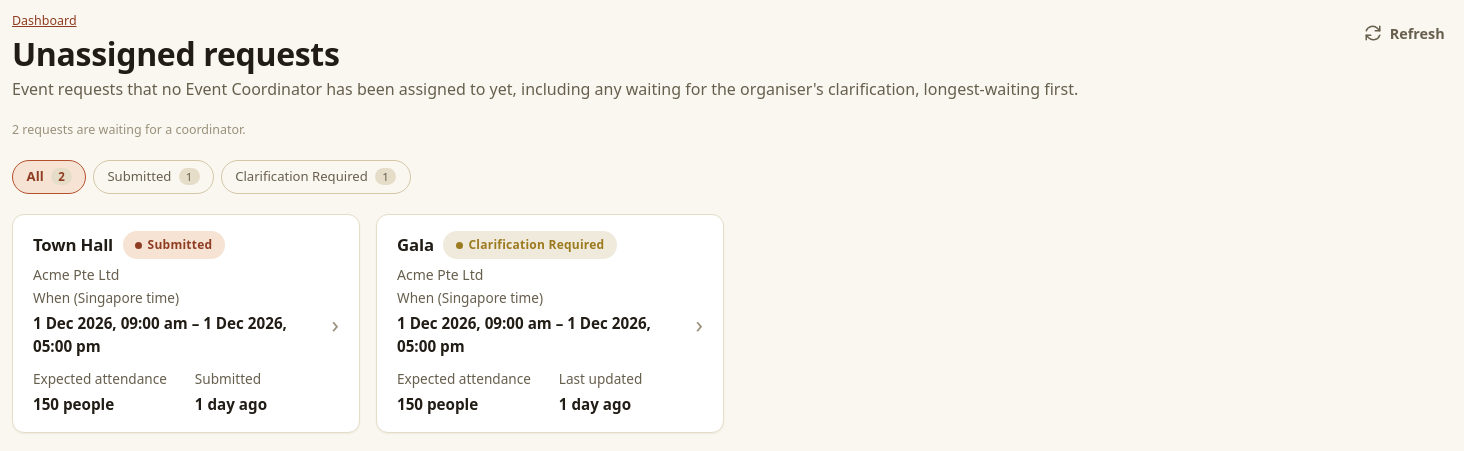
Test: UnassignedRequestsPage status filter (EC-NEW2) › filters unassigned requests by the shared status
Click the button "Submitted 1" at (153, 177), box [93, 160, 214, 194]
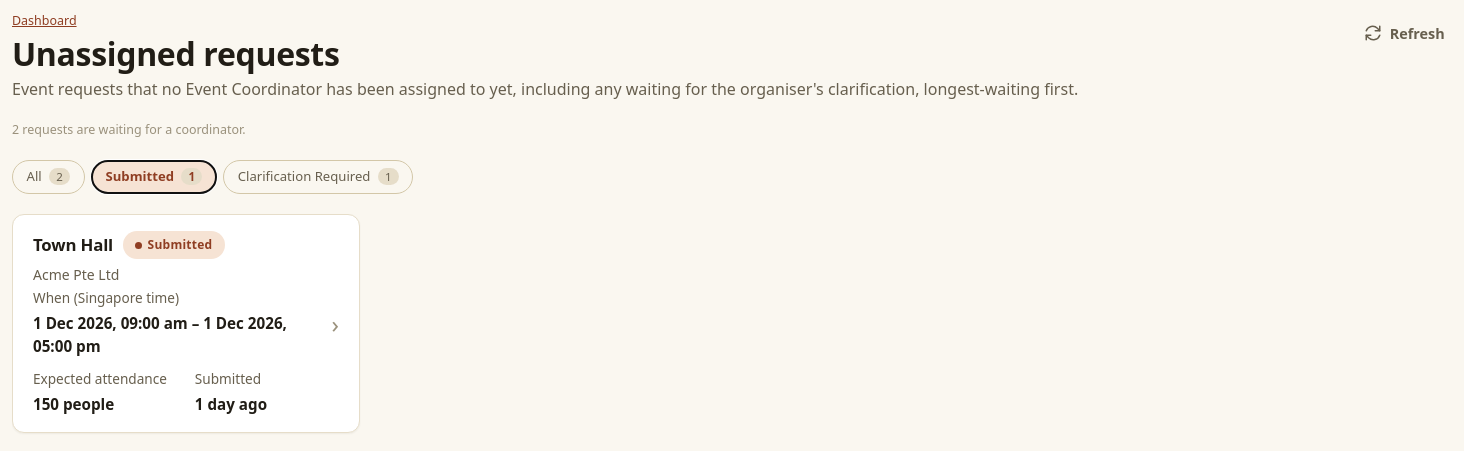
Check: the heading "Town Hall" is shown, box [33, 234, 113, 257]
Check: the link "Gala" is gone
